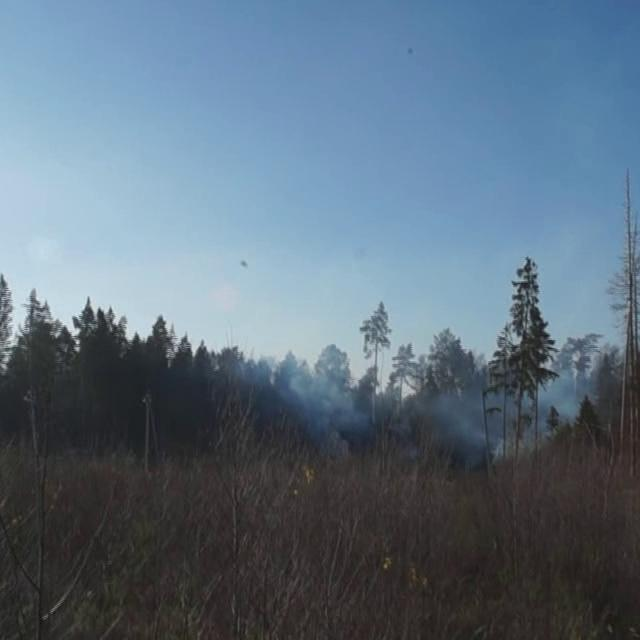Smoke: (246, 334, 606, 474)
